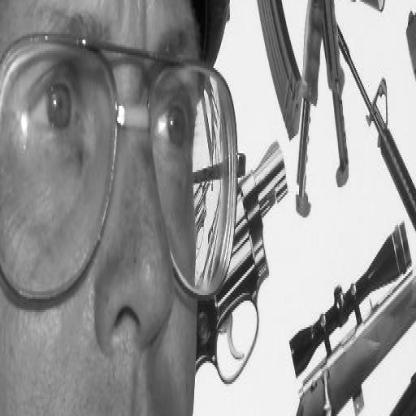gun: (172, 144, 416, 414), (222, 0, 415, 218), (335, 19, 415, 414)
